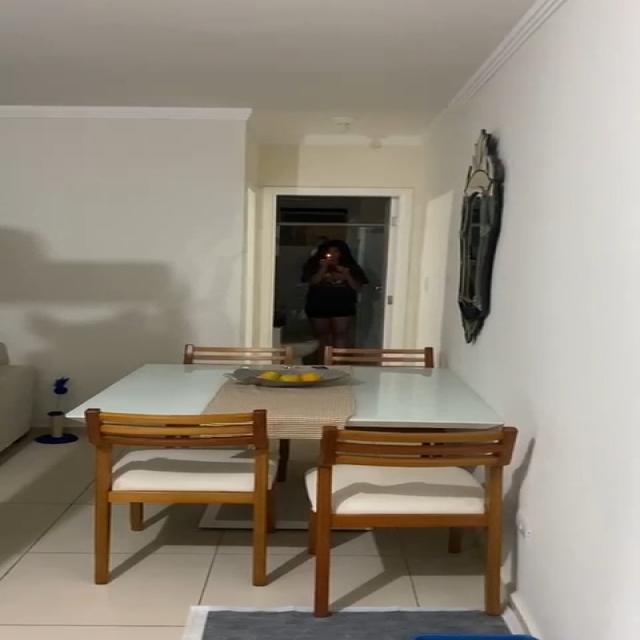fogo-ypXI: (326, 254, 332, 257)
